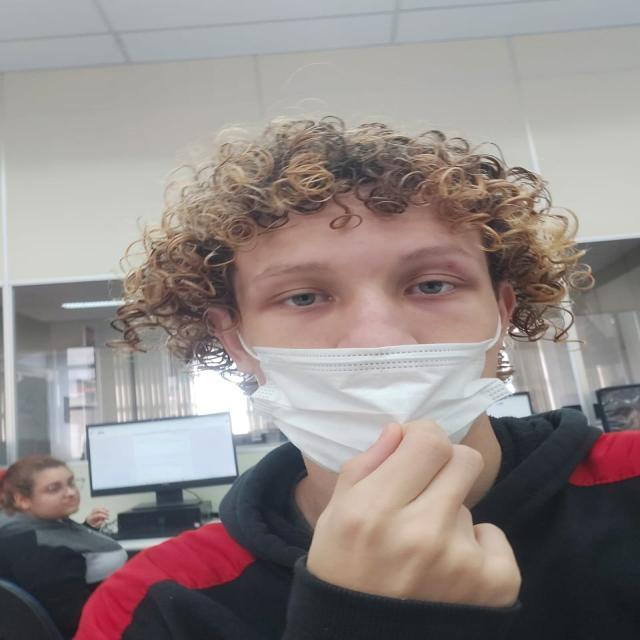hairnet: (242, 219, 506, 444)
